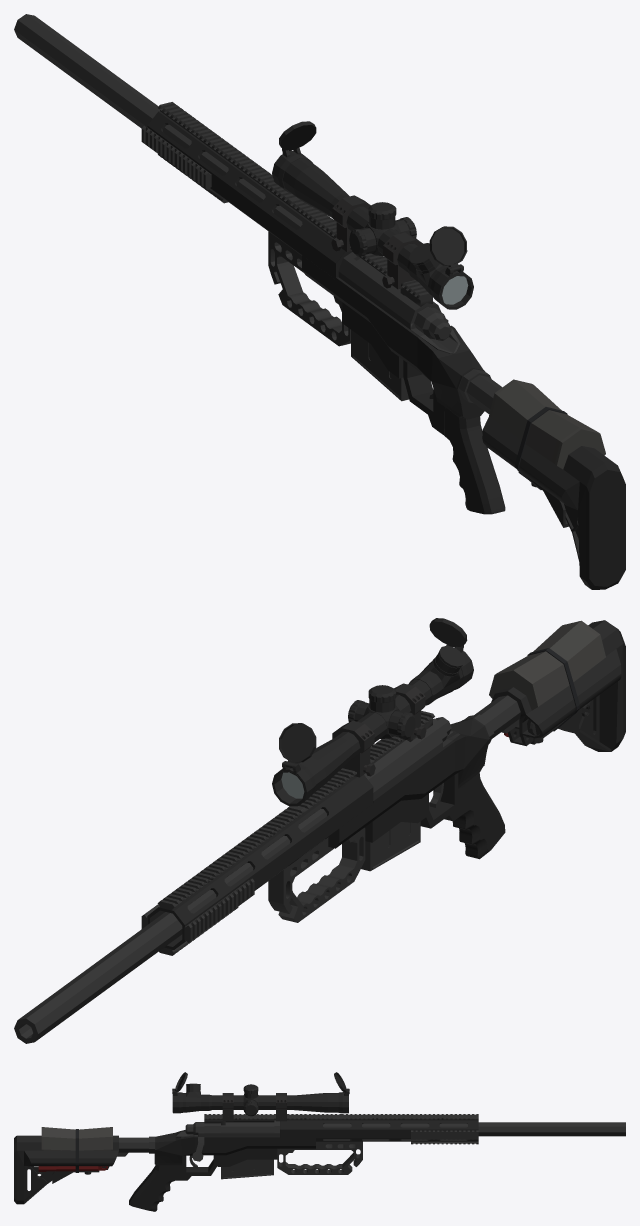
Rendered from Precision Rifle Chassis.glb.
3 views of the same model, one above another, from view 1: azimuth 30°, elevation 25°; view 2: azimuth 150°, elevation 25°; view 3: azimuth 270°, elevation 25° (orthographic). The views are drawn at different scales.
Visible parts, largest first — view 1: Stock_Sopmod, Body_Chasis, Barrel, Handguard, Cheek_Pad, Scope_Leupold, grip_RDE, Grip_Sniper_Handguard, Bolt_Assembly, Rail_Top_Extension, Rail_Top, Magazine_Standard (+6 smaller); view 2: Stock_Sopmod, Barrel, Body_Chasis, Handguard, Cheek_Pad, Grip_Sniper_Handguard, Scope_Leupold, grip_RDE, Rail_Top_Extension, Bolt_Assembly, Magazine_Standard, Rail_Top (+8 smaller); view 3: Body_Chasis, Handguard, Stock_Sopmod, Barrel, Scope_Leupold, Cheek_Pad, Grip_Sniper_Handguard, grip_RDE, bolt, Rail_Top_Extension, Rail_Top, Magazine_Standard (+7 smaller).
Boxes of the visible parts, box(x1,y1,x2,y2) form: Stock_Sopmod: box(482, 416, 625, 589); Body_Chasis: box(302, 255, 484, 435); Barrel: box(14, 14, 302, 229); Handguard: box(147, 111, 351, 279); Cheek_Pad: box(489, 379, 605, 469); Scope_Leupold: box(282, 159, 472, 308); grip_RDE: box(444, 408, 505, 514); Grip_Sniper_Handguard: box(268, 231, 350, 346); Bolt_Assembly: box(338, 252, 460, 354); Rail_Top_Extension: box(158, 102, 297, 205); Rail_Top: box(288, 198, 432, 310); Magazine_Standard: box(351, 330, 408, 401); Stock_Sopmod: box(491, 620, 625, 751); Barrel: box(14, 808, 326, 1043); Body_Chasis: box(328, 718, 489, 848); Handguard: box(147, 775, 373, 949); Cheek_Pad: box(489, 620, 605, 710); Grip_Sniper_Handguard: box(268, 827, 365, 922); Scope_Leupold: box(273, 663, 463, 805); grip_RDE: box(452, 773, 505, 859); Rail_Top_Extension: box(157, 806, 304, 910); Bolt_Assembly: box(364, 725, 460, 798); Magazine_Standard: box(361, 821, 420, 871); Rail_Top: box(293, 710, 434, 814); Body_Chasis: box(154, 1130, 315, 1180); Handguard: box(280, 1120, 478, 1141); Stock_Sopmod: box(14, 1135, 118, 1204); Barrel: box(323, 1122, 625, 1136); Scope_Leupold: box(172, 1093, 338, 1112); Cheek_Pad: box(41, 1127, 112, 1150); Grip_Sniper_Handguard: box(277, 1141, 362, 1174); grip_RDE: box(129, 1164, 174, 1211); bolt: box(185, 1122, 274, 1161); Rail_Top_Extension: box(341, 1114, 478, 1120); Rail_Top: box(204, 1114, 341, 1125); Magazine_Standard: box(221, 1159, 273, 1179).
Size of the model in its own units: 0.0109 by 0.0428 by 0.1733.
7 materials, 7 textured.
